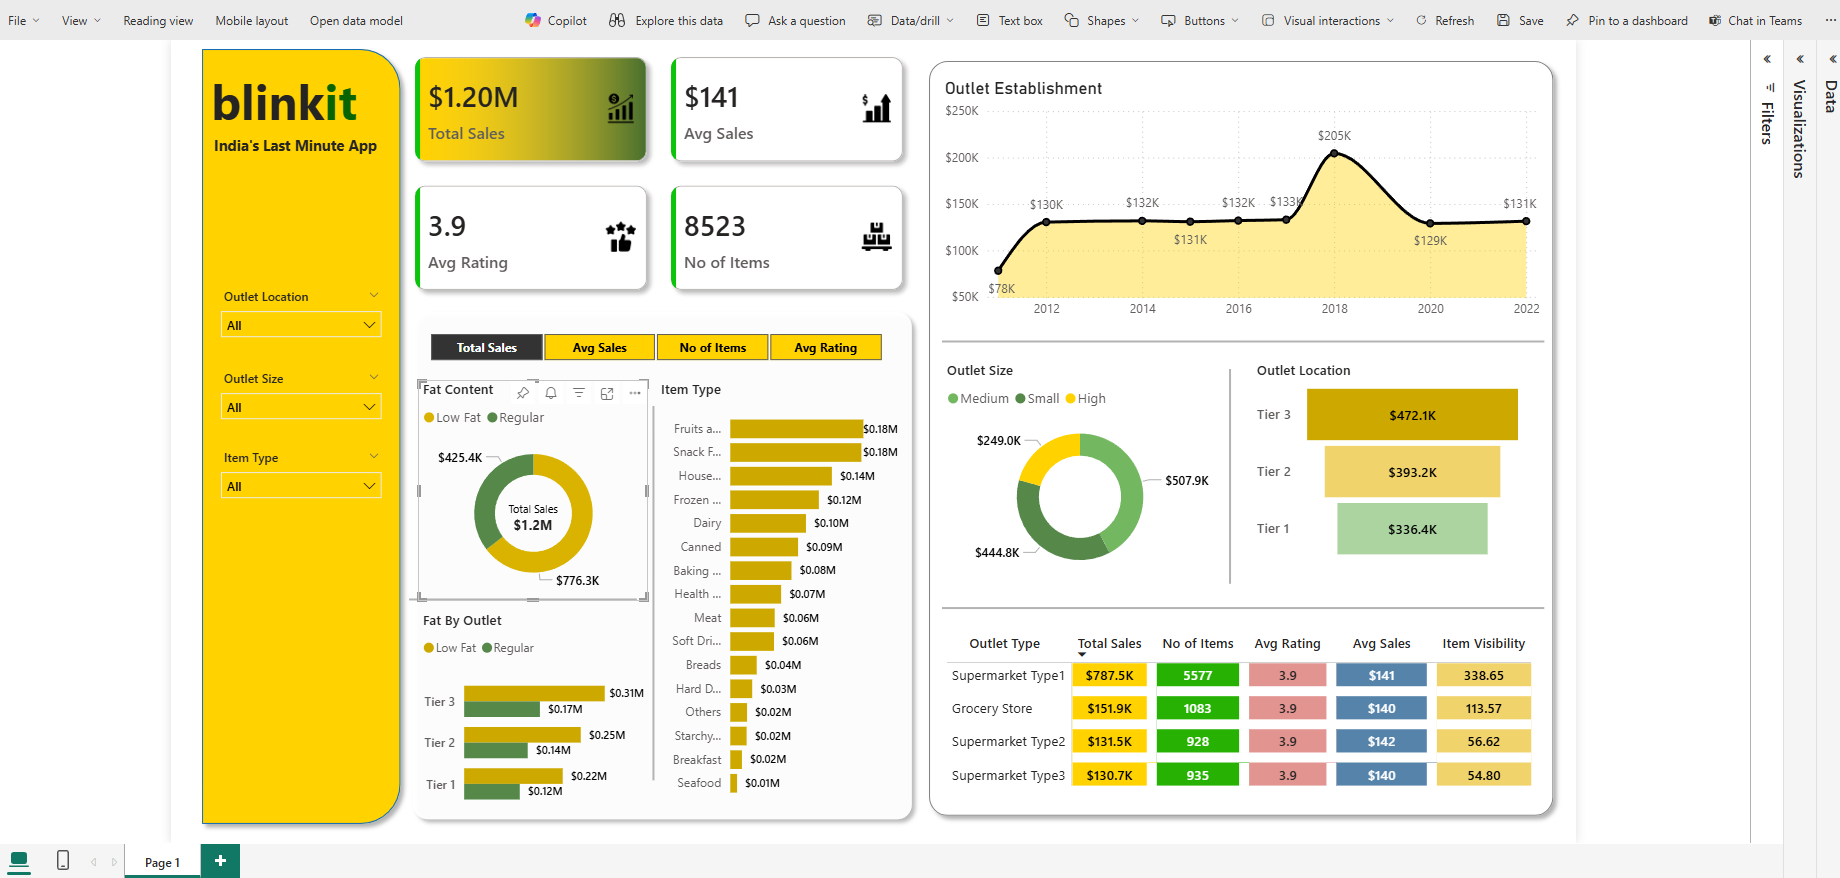

Layout of this report page (visuals, bound fields, positions):
{"tool":"powerbi","page":{"name":"Page 1","canvas":[1400,800],"ordinal":0},"visuals":[{"type":"shape","box":[21.4,0,215.7,790],"z":0},{"type":"textbox","box":[21.4,22.9,181.4,84.3],"z":1000},{"type":"textbox","box":[21.4,90,204.3,34.3],"z":2000},{"type":"cardVisual","fields":{"Data":["BlinkIT Grocery Data.Total Sales","BlinkIT Grocery Data.Avg Sales","BlinkIT Grocery Data.Avg Rating","BlinkIT Grocery Data.No of Items"]},"box":[225.7,0,521.4,267.1],"z":3000},{"type":"shape","box":[231.7,261.7,515,523.3],"z":4000},{"type":"donutChart","title":"Fat Content","fields":{"Y":["BlinkIT Grocery Data.Total Sales"],"Category":["BlinkIT Grocery Data.Item Fat Content"]},"box":[245.7,338.6,230,220],"z":5000},{"type":"slicer","fields":{"Values":["Metrics.Metrics"]},"box":[232.9,285.7,498.6,34.3],"z":6000},{"type":"cardVisual","fields":{"Data":["BlinkIT Grocery Data.Total Sales"]},"box":[315.7,448.6,90,52.9],"z":7000},{"type":"clusteredBarChart","title":"Fat By Outlet","fields":{"Y":["BlinkIT Grocery Data.Total Sales"],"Category":["BlinkIT Grocery Data.Outlet Location Type"],"Series":["BlinkIT Grocery Data.Item Fat Content"]},"box":[245.7,568.6,230,220],"z":8000},{"type":"shape","box":[237.1,551.4,227.1,12.9],"z":9000},{"type":"shape","box":[474.3,364.3,12.9,372.9],"z":10000},{"type":"barChart","title":"Item Type","fields":{"Y":["BlinkIT Grocery Data.Total Sales"],"Category":["BlinkIT Grocery Data.Item Type"]},"box":[482.9,338.6,245.7,425.7],"z":11000},{"type":"shape","box":[746.7,11.7,640,770],"z":12000},{"type":"pivotTable","title":"Outlet Establishment","fields":{"Values":["BlinkIT Grocery Data.Total Sales","BlinkIT Grocery Data.No of Items","BlinkIT Grocery Data.Avg Rating","BlinkIT Grocery Data.Avg Sales","Sum(BlinkIT Grocery Data.Item Visibility)"],"Rows":["BlinkIT Grocery Data.Outlet Type"]},"box":[768,584,600,180],"z":13000},{"type":"shape","box":[768.3,298.3,600,5],"z":14000},{"type":"donutChart","title":"Outlet Size","fields":{"Y":["BlinkIT Grocery Data.Total Sales"],"Category":["BlinkIT Grocery Data.Outlet Size"]},"box":[768.3,320,275,225],"z":15000},{"type":"shape","box":[1046,328,18,214],"z":16000},{"type":"funnel","title":"Outlet Location","fields":{"Y":["BlinkIT Grocery Data.Total Sales"],"Category":["BlinkIT Grocery Data.Outlet Location Type"]},"box":[1076.7,320,275,203.3],"z":17000},{"type":"lineChart","title":"Outlet Establishment","fields":{"Y":["BlinkIT Grocery Data.Total Sales"],"Category":["BlinkIT Grocery Data.Outlet Establishment Year"]},"box":[766,38,602,248],"z":18000},{"type":"shape","box":[768,550,600,32],"z":19000},{"type":"slicer","fields":{"Values":["BlinkIT Grocery Data.Outlet Location Type"]},"box":[40,242,180,84],"z":20000},{"type":"slicer","title":"Outlet SIzez","fields":{"Values":["BlinkIT Grocery Data.Outlet Size"]},"box":[40,324,180,84],"z":21000},{"type":"slicer","title":"Outlet SIzez","fields":{"Values":["BlinkIT Grocery Data.Item Type"]},"box":[40,402,180,84],"z":22000}]}

Visuals, with their boxes on the page's 1400x800 design canvas (x1, y1, x2, y2). These are canvas units, not pixel positions in the 1840x878 screenshot, which may show the page scaled, cropped or inside an application window:
shape: (21,0,237,790)
textbox: (21,23,203,107)
textbox: (21,90,226,124)
cardVisual - BlinkIT Grocery Data.Total Sales x BlinkIT Grocery Data.Avg Sales: (226,0,747,267)
shape: (232,262,747,785)
"Fat Content" donutChart: (246,339,476,559)
slicer - Metrics.Metrics: (233,286,732,320)
cardVisual - BlinkIT Grocery Data.Total Sales: (316,449,406,502)
"Fat By Outlet" clusteredBarChart: (246,569,476,789)
shape: (237,551,464,564)
shape: (474,364,487,737)
"Item Type" barChart: (483,339,729,764)
shape: (747,12,1387,782)
"Outlet Establishment" pivotTable: (768,584,1368,764)
shape: (768,298,1368,303)
"Outlet Size" donutChart: (768,320,1043,545)
shape: (1046,328,1064,542)
"Outlet Location" funnel: (1077,320,1352,523)
"Outlet Establishment" lineChart: (766,38,1368,286)
shape: (768,550,1368,582)
slicer - BlinkIT Grocery Data.Outlet Location Type: (40,242,220,326)
"Outlet SIzez" slicer: (40,324,220,408)
"Outlet SIzez" slicer: (40,402,220,486)
